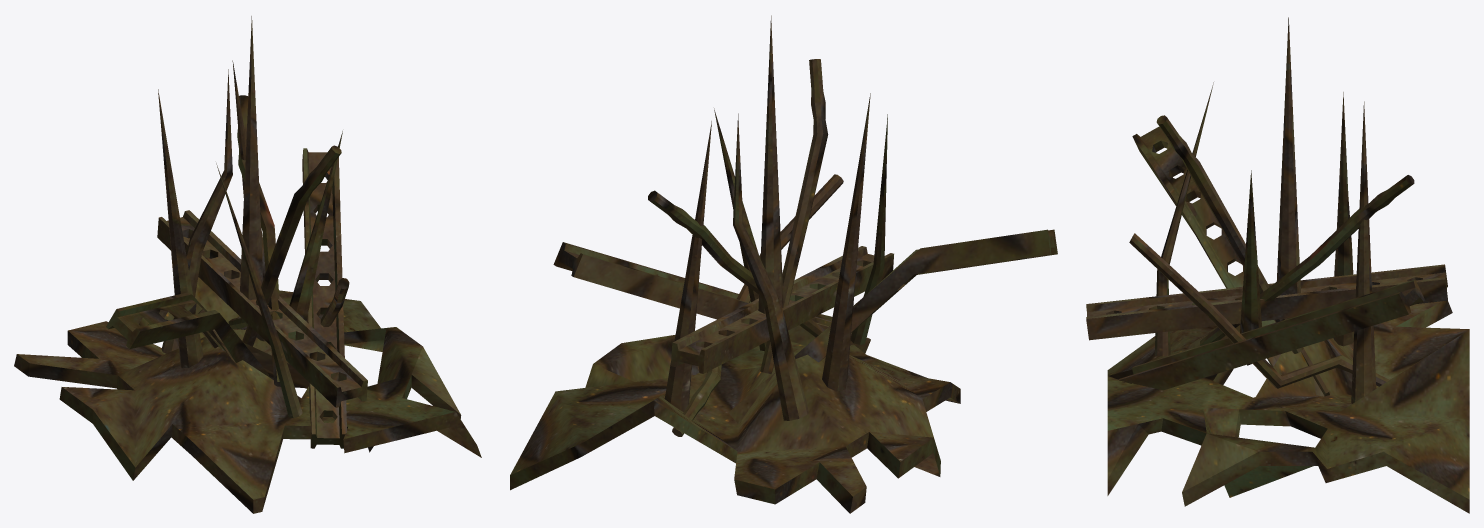
The model's file is spikes.fbx.
3 renders of one model, left to right at view 1: azimuth 30°, elevation 25°; view 2: azimuth 150°, elevation 25°; view 3: azimuth 270°, elevation 25°, orthographic. The views are drawn at different scales.
Parts seen in each view (by area): view 1: junk_spikes; view 2: junk_spikes; view 3: junk_spikes.
Part boxes in pixels (box(x1,y1,x2,y2)): junk_spikes: box(14, 16, 481, 513); junk_spikes: box(510, 15, 1057, 513); junk_spikes: box(1086, 17, 1469, 513).
Bounding box in the file's own units: 88.46 × 103 × 81.06.
